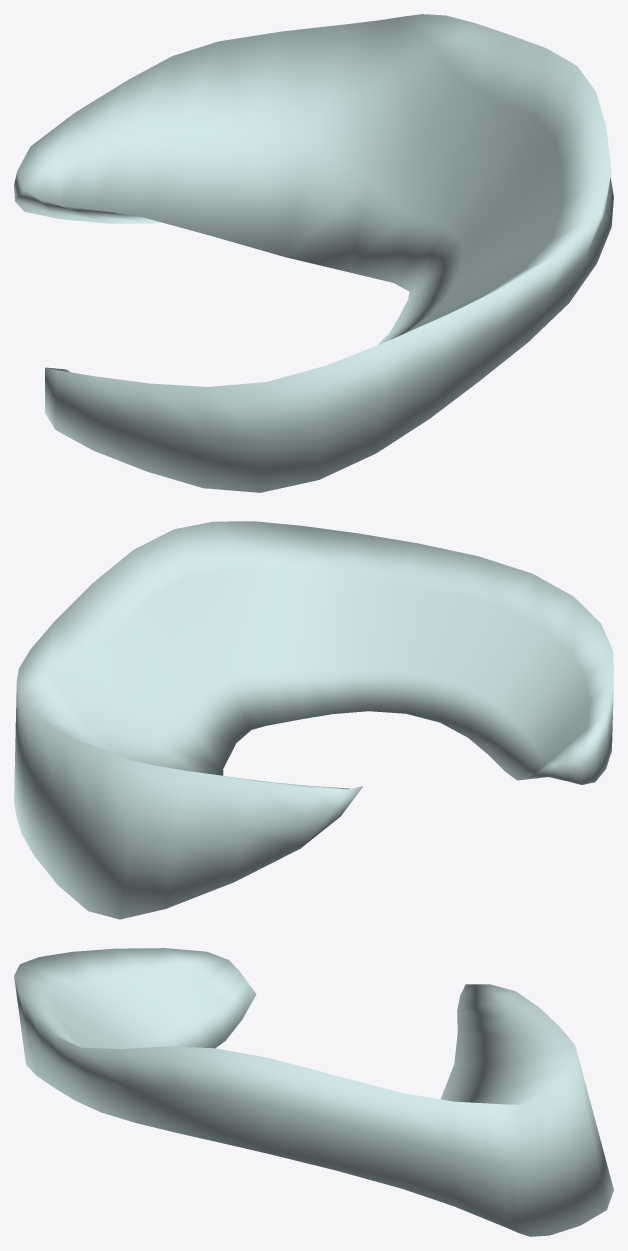
Rendered from Lateral_meniscus.l_Generated_Mesh_From_X3D.049.glb.
The picture shows the model from 3 angles, top to bottom: view 1: azimuth 30°, elevation 25°; view 2: azimuth 150°, elevation 25°; view 3: azimuth 270°, elevation 25°; orthographic projection. The views are drawn at different scales.
Visible parts, largest first — view 1: Lateral_meniscus.l_Generated_Mesh_From_X3D.049; view 2: Lateral_meniscus.l_Generated_Mesh_From_X3D.049; view 3: Lateral_meniscus.l_Generated_Mesh_From_X3D.049.
Boxes of the visible parts, bbox=[...] form: Lateral_meniscus.l_Generated_Mesh_From_X3D.049: bbox=[14, 14, 613, 492]; Lateral_meniscus.l_Generated_Mesh_From_X3D.049: bbox=[14, 521, 613, 919]; Lateral_meniscus.l_Generated_Mesh_From_X3D.049: bbox=[14, 948, 613, 1236].
Size of the model in its own units: 0.0338 by 0.0153 by 0.0387.
